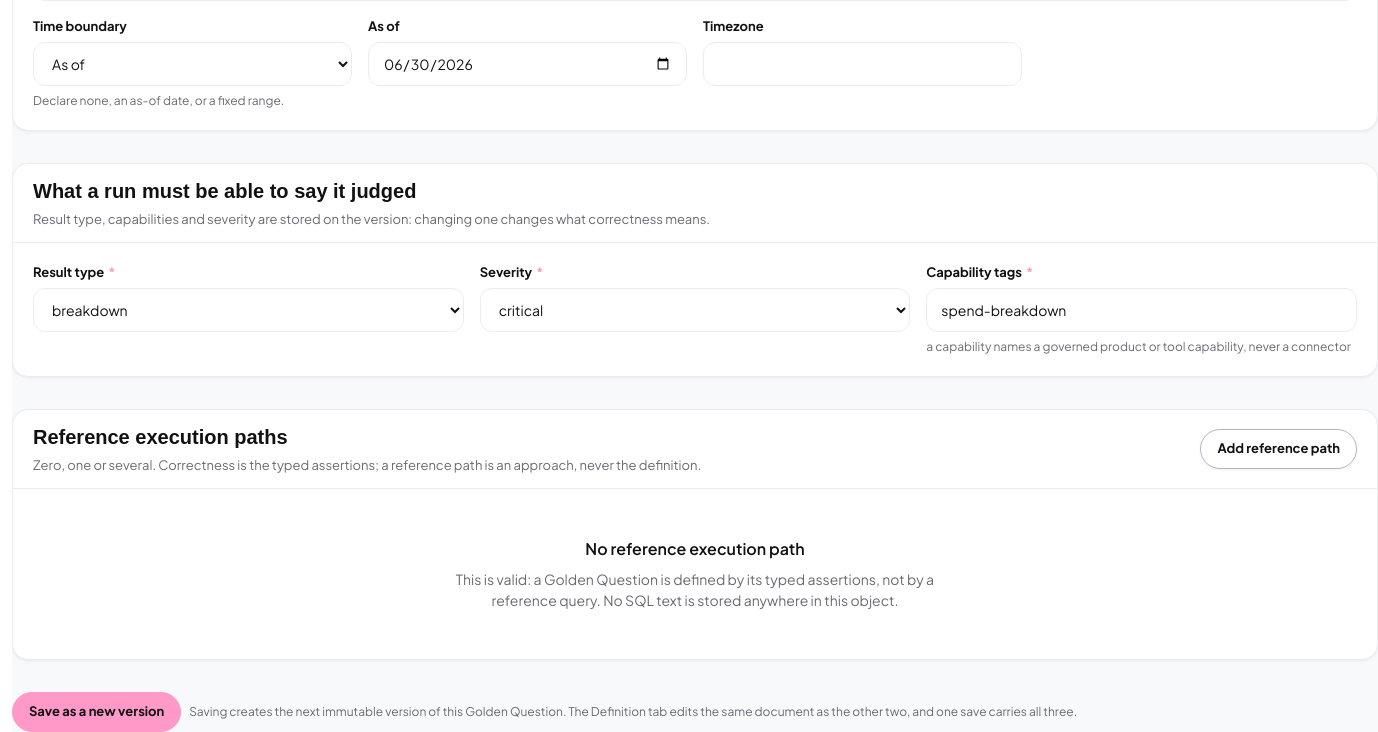
Test: saves as a NEW version and never rewrites the one it read
(page scrolled)
Click the button with test id "golden-question-save": x=97, y=712 [12,692,181,731]
(page scrolled)
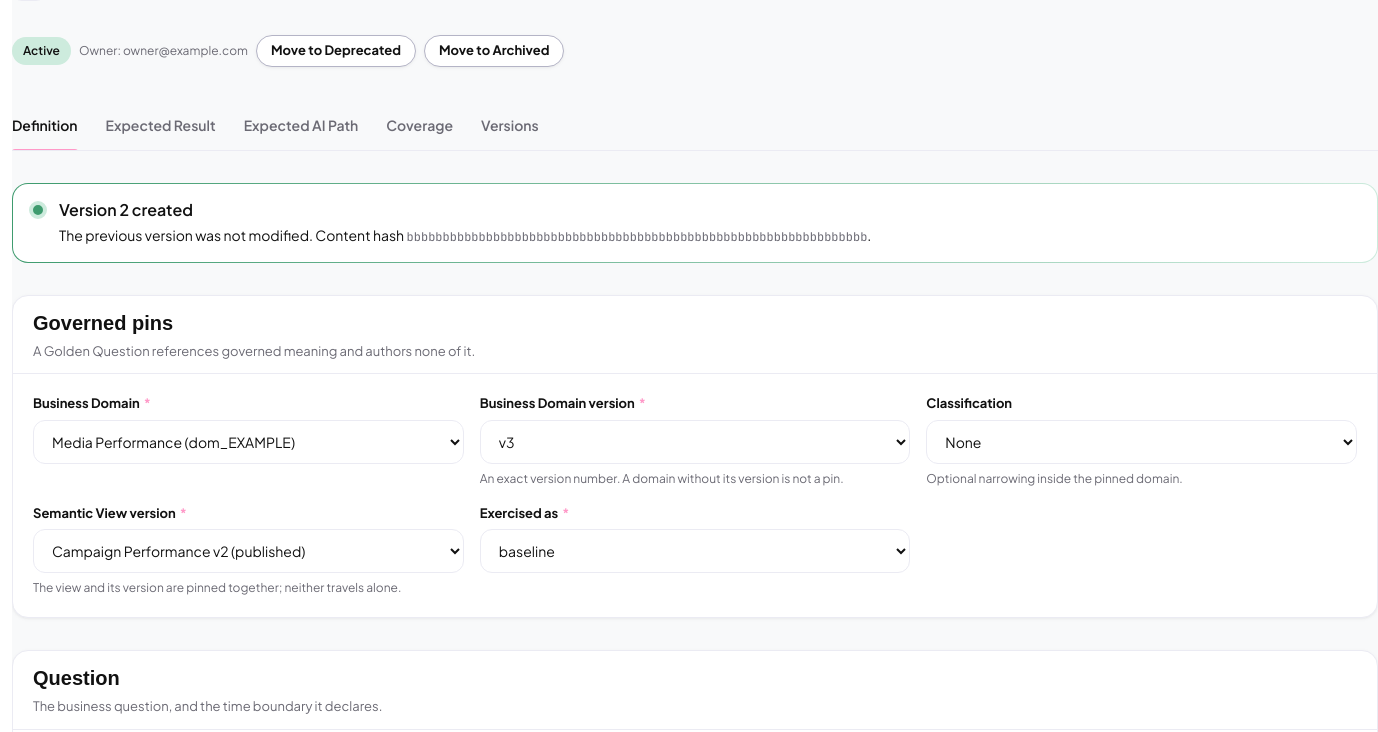
Check: the text "Version 2 created" is shown, box [59,199,193,220]
